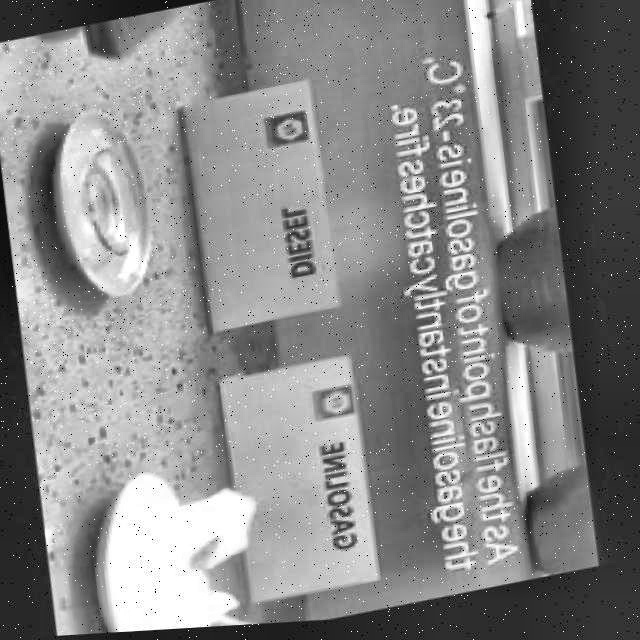Fire: (100, 470, 296, 635)
